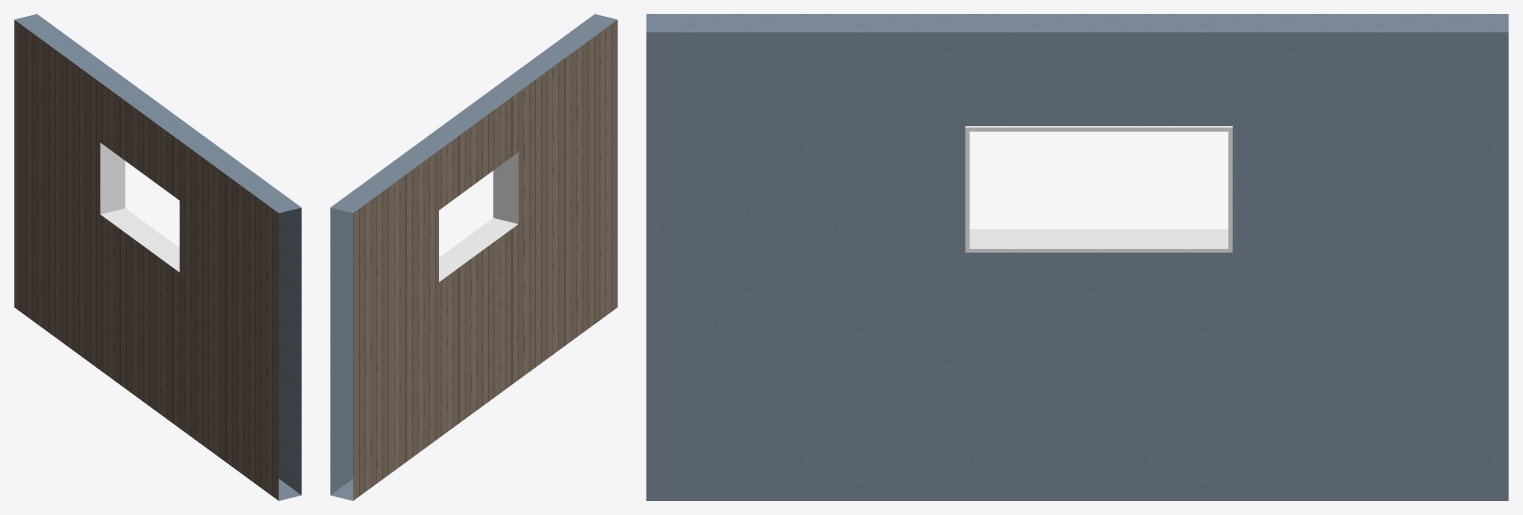
The model's file is Tile_House_Wall_Vent_03.obj.
3 views of the same model, side by side, from view 1: azimuth 30°, elevation 25°; view 2: azimuth 150°, elevation 25°; view 3: azimuth 270°, elevation 25° (orthographic). The views are drawn at different scales.
Parts seen in each view (by area): view 1: Tile_House_Wall_Vent_03_mi_HouseExteriorWalls_01, Tile_House_Wall_Vent_03_mi_HouseInteriorWalls_02, Tile_House_Wall_Vent_03_mi_WhiteTrim; view 2: Tile_House_Wall_Vent_03_mi_HouseExteriorWalls_01, Tile_House_Wall_Vent_03_mi_HouseInteriorWalls_02, Tile_House_Wall_Vent_03_mi_WhiteTrim; view 3: Tile_House_Wall_Vent_03_mi_HouseInteriorWalls_02, Tile_House_Wall_Vent_03_mi_WhiteTrim.
Part boxes in pixels (x1,y1,x2,y2): Tile_House_Wall_Vent_03_mi_HouseExteriorWalls_01: [14, 20, 278, 500]; Tile_House_Wall_Vent_03_mi_HouseInteriorWalls_02: [14, 14, 301, 500]; Tile_House_Wall_Vent_03_mi_WhiteTrim: [100, 143, 179, 272]; Tile_House_Wall_Vent_03_mi_HouseExteriorWalls_01: [353, 20, 617, 500]; Tile_House_Wall_Vent_03_mi_HouseInteriorWalls_02: [330, 14, 617, 500]; Tile_House_Wall_Vent_03_mi_WhiteTrim: [439, 152, 518, 281]; Tile_House_Wall_Vent_03_mi_HouseInteriorWalls_02: [646, 14, 1508, 500]; Tile_House_Wall_Vent_03_mi_WhiteTrim: [965, 126, 1232, 252].
Bounding box in the file's own units: 0.275 × 3 × 5.
Materials: 3 (2 with a texture image).
